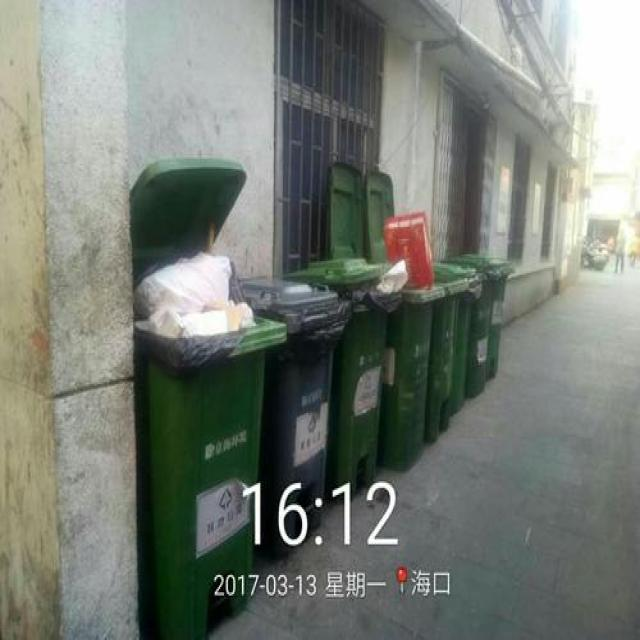garbage_bin: (236, 275, 350, 556), (431, 258, 498, 428)
overflow: (133, 249, 284, 638), (286, 256, 404, 498), (380, 208, 446, 473)
